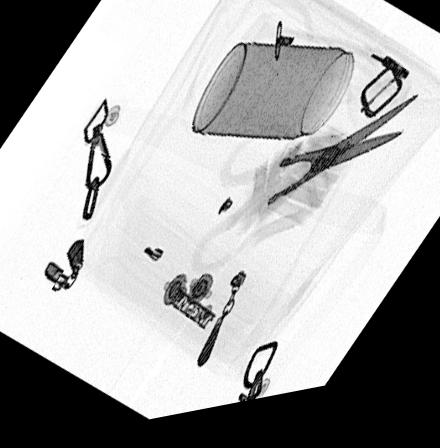Scissors: (189, 105, 423, 286)
